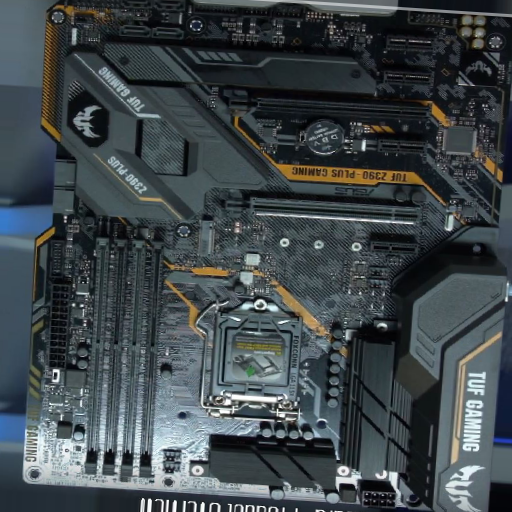CPU: (209, 298, 302, 420)
GPU: (223, 190, 422, 227), (225, 90, 432, 124)
MOTHERBOARD: (34, 5, 507, 512)
RAM: (84, 230, 170, 477)
SSD: (196, 219, 214, 258)
